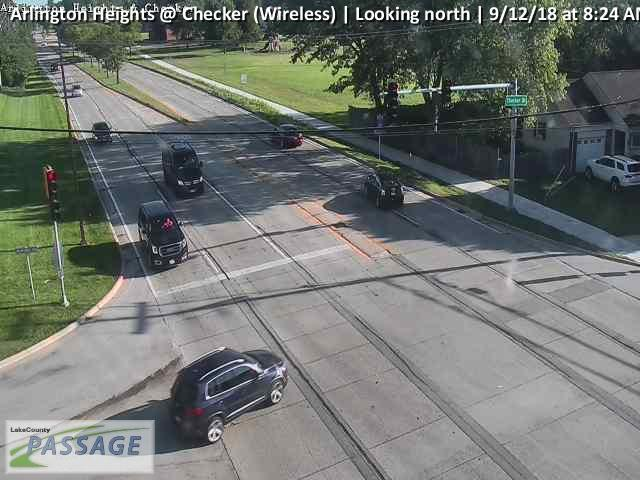SUV: (170, 345, 288, 444), (136, 199, 189, 269), (159, 139, 205, 197), (583, 152, 640, 193)
Sedan: (361, 168, 406, 206), (272, 123, 304, 148), (90, 120, 113, 143)
